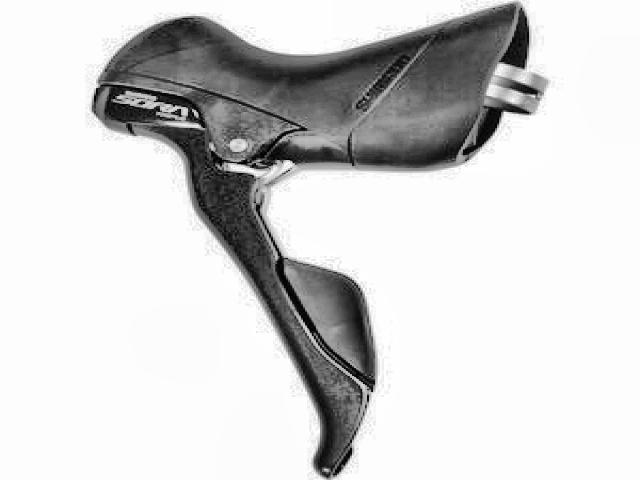sti_shifter: (91, 4, 533, 480)
